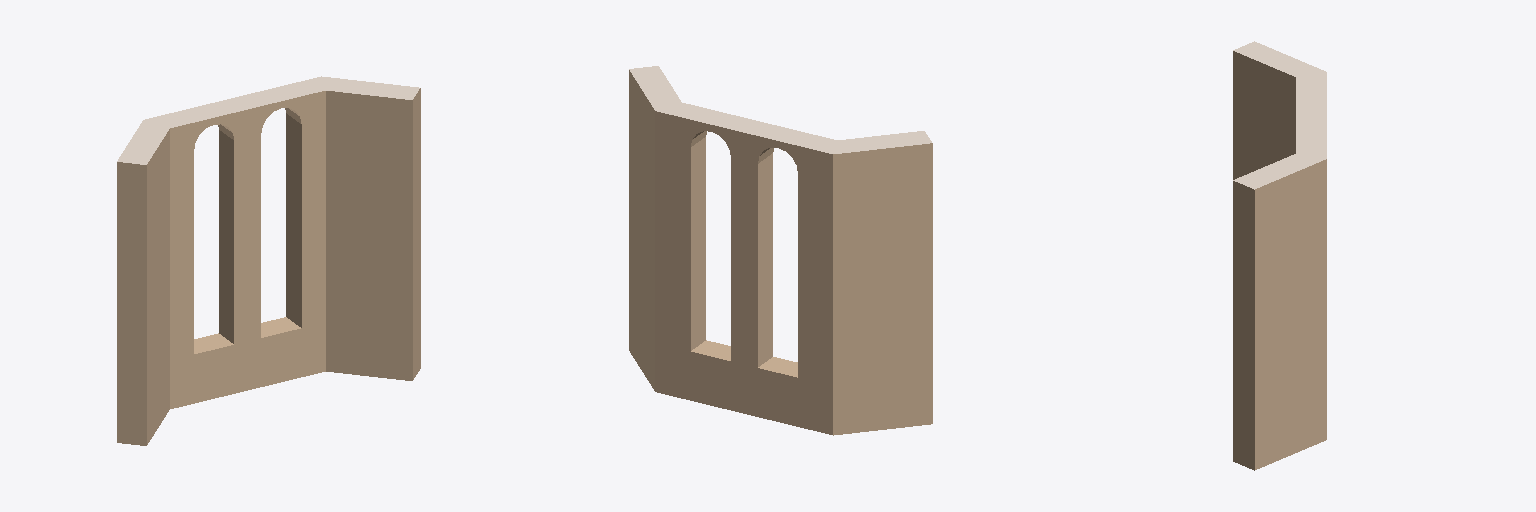
The model's file is Tower_Wall_Tall_Windows.obj.
3 renders of one model, left to right at view 1: azimuth 30°, elevation 25°; view 2: azimuth 150°, elevation 25°; view 3: azimuth 270°, elevation 25°, orthographic.
Parts seen in each view (by area): view 1: object1; view 2: object1; view 3: object1.
Boxes of the visible parts, <box> form: object1: <box>117,76,420,445</box>; object1: <box>629,66,932,435</box>; object1: <box>1233,41,1326,470</box>.
Size of the model in its own units: 2.26 by 2 by 0.6101.